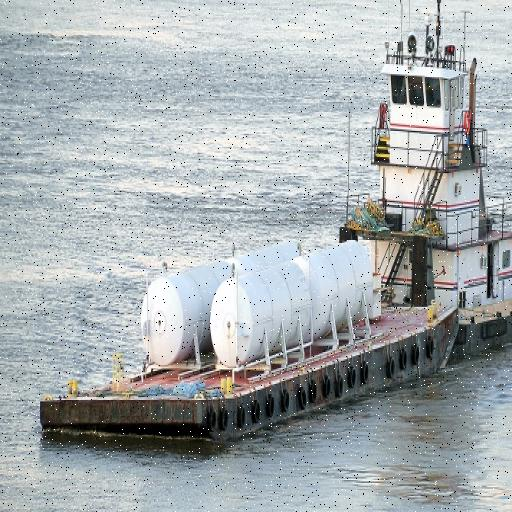tugboat: (336, 1, 512, 384)
